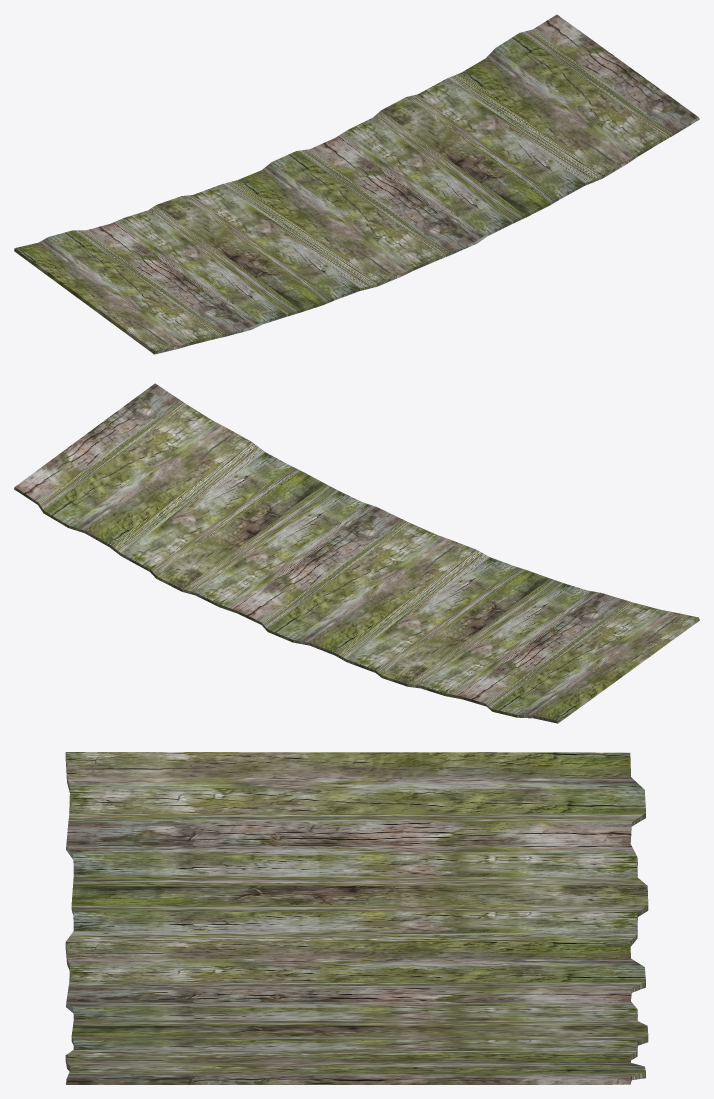
File: ramp-002.fbx
3 renders of one model, top to bottom at view 1: azimuth 30°, elevation 25°; view 2: azimuth 150°, elevation 25°; view 3: azimuth 270°, elevation 25°, orthographic. The views are drawn at different scales.
Parts seen in each view (by area): view 1: Ramp_002; view 2: Ramp_002; view 3: Ramp_002.
Part boxes in pixels (x1,y1,x2,y2): Ramp_002: [14, 14, 699, 354]; Ramp_002: [14, 383, 699, 723]; Ramp_002: [65, 752, 648, 1084].
Bounding box in the file's own units: 446 × 81.89 × 206.
